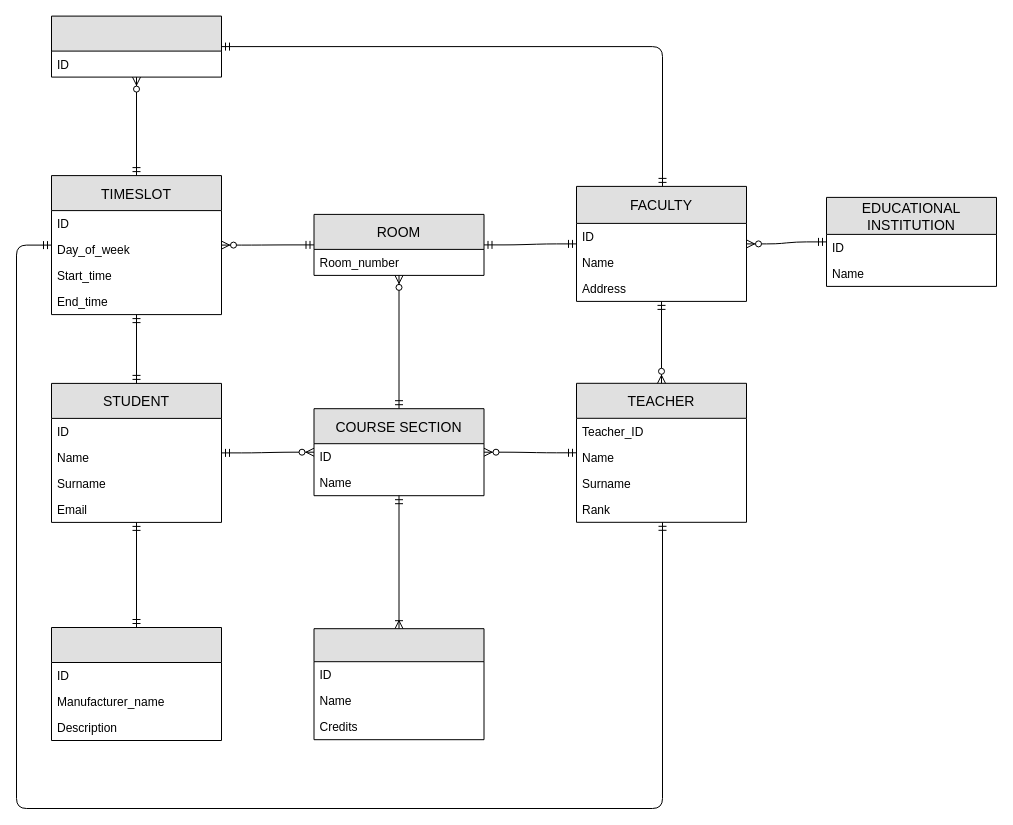
Image size: 1013x825. Some labels were removed from this diagram. Here are the shapes that lost their labels. From the top down, the box of each, then its label:
(50, 15, 222, 77): TIMETABLE
(50, 626, 222, 740): COMPUTER
(313, 628, 484, 740): COURSE
